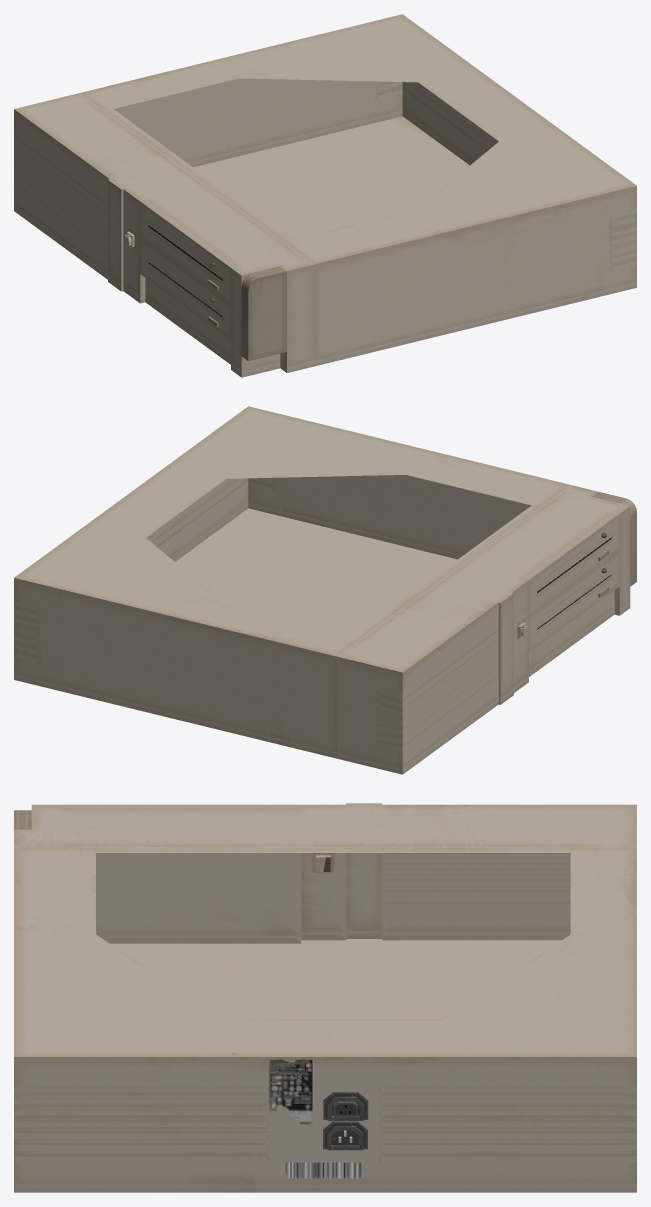
File: SM_Computer_01h.fbx
The picture shows the model from 3 angles, top to bottom: view 1: azimuth 30°, elevation 25°; view 2: azimuth 150°, elevation 25°; view 3: azimuth 270°, elevation 25°; orthographic projection. The views are drawn at different scales.
Visible parts, largest first — view 1: SM_Computer_01h_LOD0; view 2: SM_Computer_01h_LOD0; view 3: SM_Computer_01h_LOD0.
Part boxes in pixels (box(x1,y1,x2,y2)): SM_Computer_01h_LOD0: box(14, 14, 636, 377); SM_Computer_01h_LOD0: box(14, 406, 636, 774); SM_Computer_01h_LOD0: box(14, 803, 636, 1192).
Size of the model in its own units: 52.94 by 54.11 by 13.
